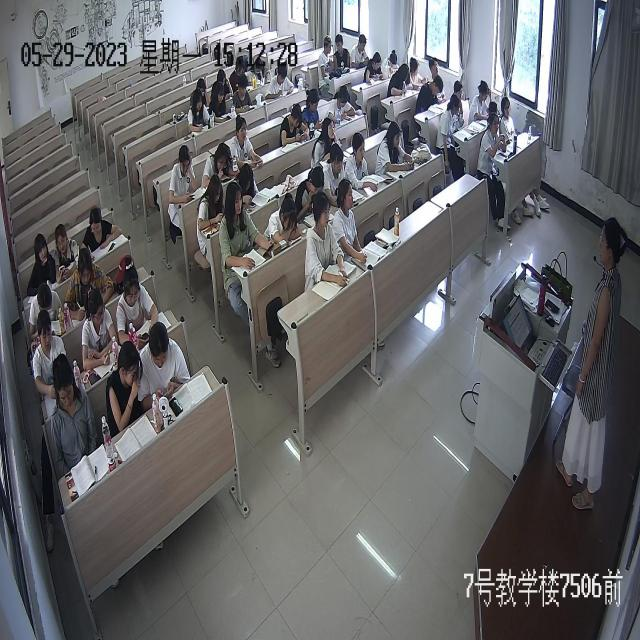distracted: (48, 355, 99, 472), (109, 344, 145, 424), (81, 294, 115, 361), (26, 231, 58, 295), (437, 91, 462, 145), (331, 33, 351, 77), (319, 36, 333, 85)
focused: (307, 194, 349, 292), (115, 260, 157, 346), (67, 251, 117, 317), (33, 312, 69, 402), (333, 180, 368, 264), (346, 134, 378, 200), (81, 206, 123, 255), (27, 287, 66, 338), (197, 175, 226, 242), (312, 116, 342, 172), (233, 117, 263, 170), (296, 163, 323, 221), (324, 147, 351, 204), (264, 64, 298, 107), (479, 111, 505, 163), (232, 73, 256, 122), (426, 55, 448, 106), (414, 75, 443, 112), (471, 81, 494, 123), (499, 97, 519, 145), (210, 82, 232, 123), (348, 33, 370, 74), (364, 53, 386, 88), (451, 79, 467, 125), (381, 48, 402, 81), (249, 57, 269, 91)
sleep: (264, 194, 302, 251)
using_phone: (222, 184, 276, 270), (139, 322, 188, 406), (376, 118, 416, 180), (50, 227, 84, 290), (201, 137, 236, 189), (280, 103, 314, 153), (169, 145, 197, 205), (234, 164, 263, 219), (299, 82, 323, 136), (327, 86, 357, 128), (186, 87, 210, 134), (408, 56, 430, 94), (215, 66, 235, 106)
